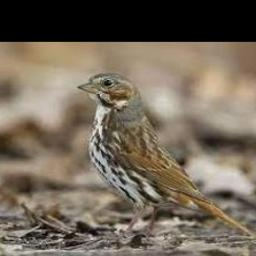Sparrow: (76, 72, 256, 237)
